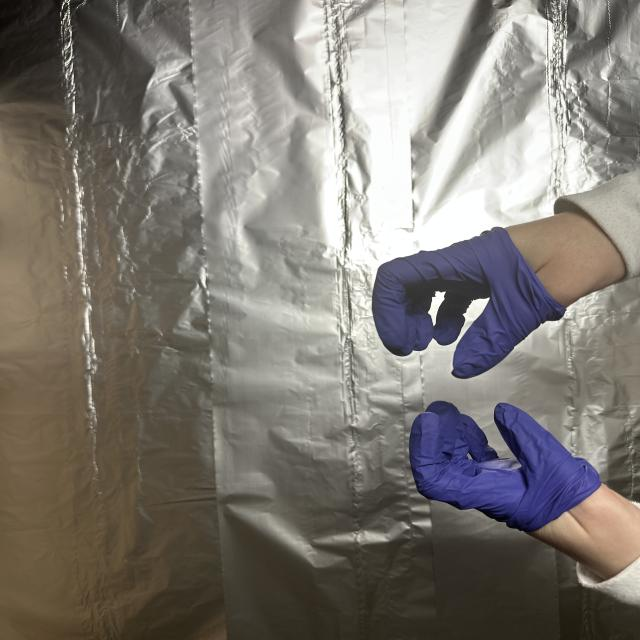glove_partial: (372, 208, 626, 382), (412, 400, 640, 580)
